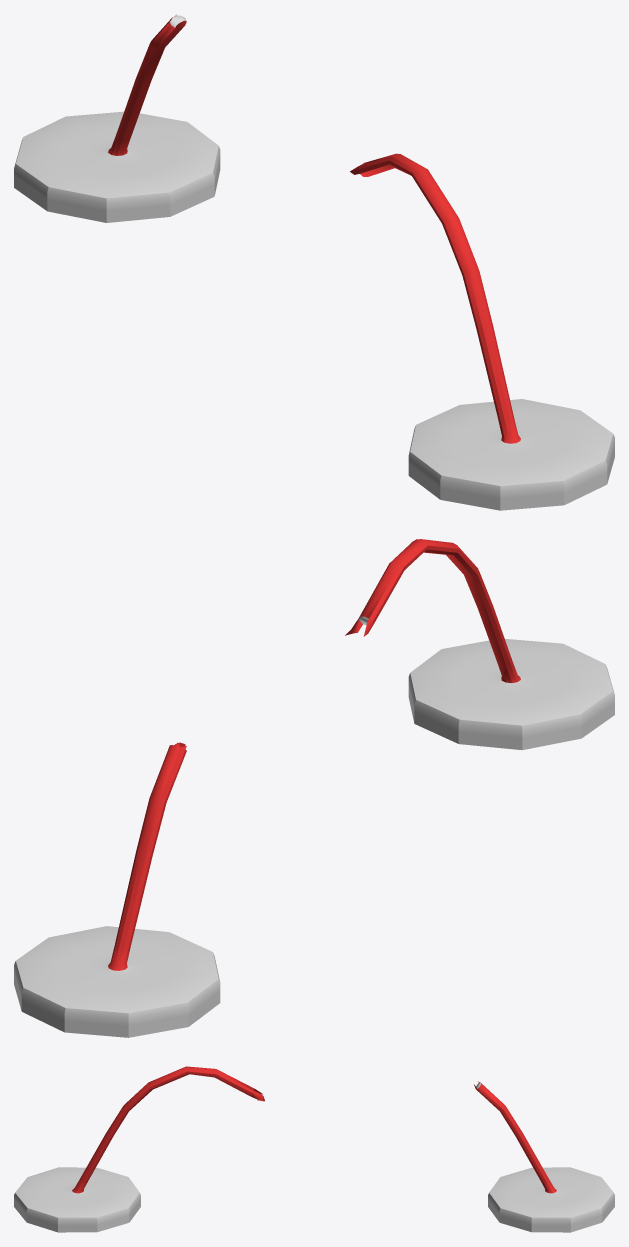
The model's file is WiringBroken.fbx.
3 renders of one model, top to bottom at view 1: azimuth 30°, elevation 25°; view 2: azimuth 150°, elevation 25°; view 3: azimuth 270°, elevation 25°, orthographic. The views are drawn at different scales.
Parts seen in each view (by area): view 1: wiringBroken; view 2: wiringBroken; view 3: wiringBroken.
Part boxes in pixels (x1,y1,x2,y2): wiringBroken: (14, 15, 614, 510); wiringBroken: (14, 539, 614, 1037); wiringBroken: (14, 1066, 614, 1232).
Size of the model in its own units: 73.2 by 92.99 by 363.
